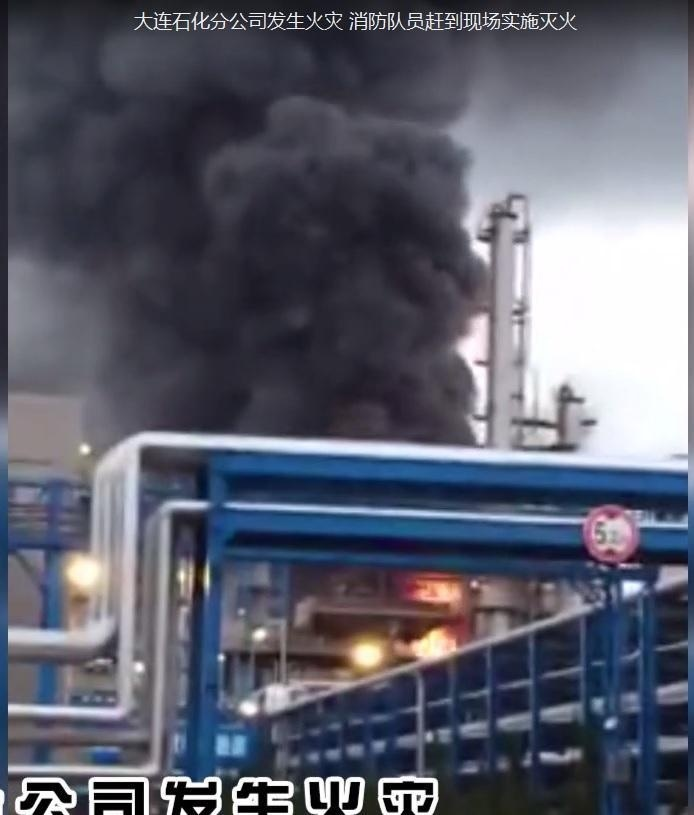fire: (401, 574, 467, 659)
